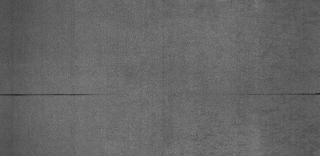scratches: (7, 87, 313, 102)
